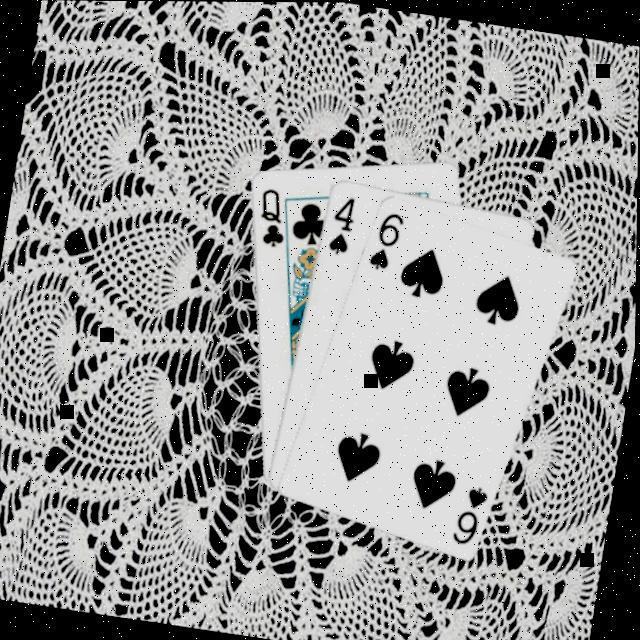4S: (325, 193, 363, 260)
6S: (450, 482, 496, 550), (366, 208, 410, 276)
QC: (252, 185, 297, 253)
